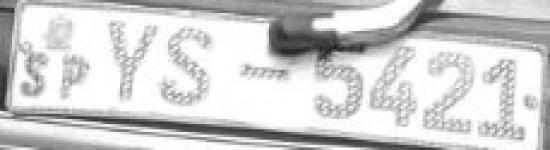-: (238, 59, 292, 86)
1: (478, 53, 534, 146)
2: (423, 48, 477, 139)
4: (368, 35, 421, 130)
5: (309, 35, 369, 121)
P: (55, 50, 97, 107)
S: (163, 24, 219, 111), (18, 44, 56, 103)
Y: (104, 21, 162, 102)
